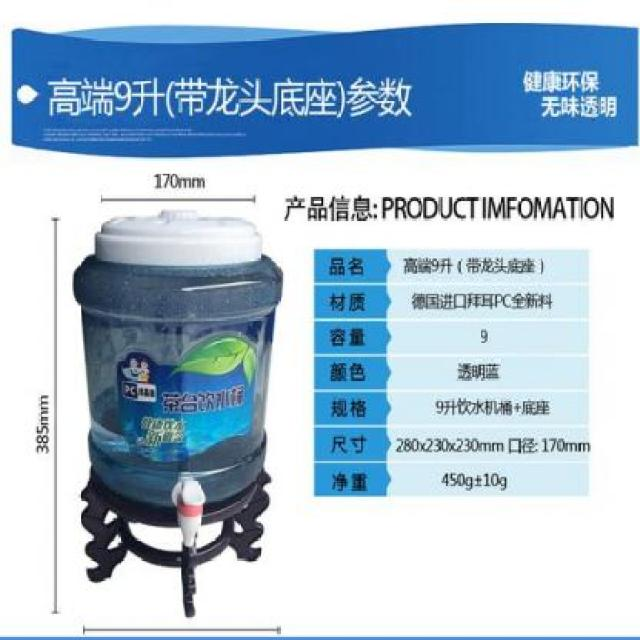coolerbottle: (69, 246, 289, 511)
